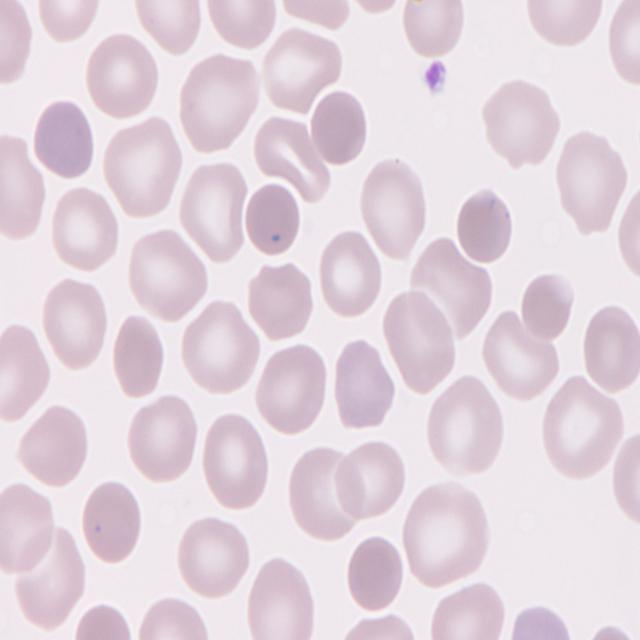RBC: (402, 481, 495, 590), (538, 376, 626, 481), (99, 114, 186, 220), (176, 52, 258, 159), (382, 286, 459, 396), (425, 373, 506, 476), (175, 159, 249, 267), (554, 129, 630, 234), (124, 229, 206, 325), (481, 308, 564, 402), (258, 26, 346, 114), (196, 411, 271, 514), (182, 299, 260, 397), (483, 75, 562, 170), (252, 338, 330, 434), (84, 29, 162, 122), (124, 392, 200, 486), (43, 275, 114, 373), (360, 160, 428, 262), (17, 402, 92, 494), (330, 335, 398, 432), (48, 184, 120, 275), (174, 514, 250, 600), (317, 232, 386, 326), (247, 257, 317, 344), (246, 557, 318, 640), (340, 438, 410, 522), (0, 322, 55, 428), (577, 305, 640, 394), (0, 485, 58, 574), (114, 312, 168, 402), (430, 582, 512, 640), (1, 144, 48, 242), (398, 2, 471, 64), (130, 0, 206, 55), (527, 0, 603, 52), (201, 0, 278, 50), (519, 272, 574, 342), (30, 0, 106, 43), (0, 0, 35, 93), (136, 598, 212, 640), (611, 431, 640, 536), (612, 182, 640, 290), (501, 608, 591, 640), (610, 0, 640, 81), (72, 606, 142, 640)
Spherocyte: (76, 478, 142, 570), (30, 98, 94, 180), (308, 84, 370, 168), (344, 532, 407, 614), (451, 185, 514, 265), (244, 180, 306, 259)
